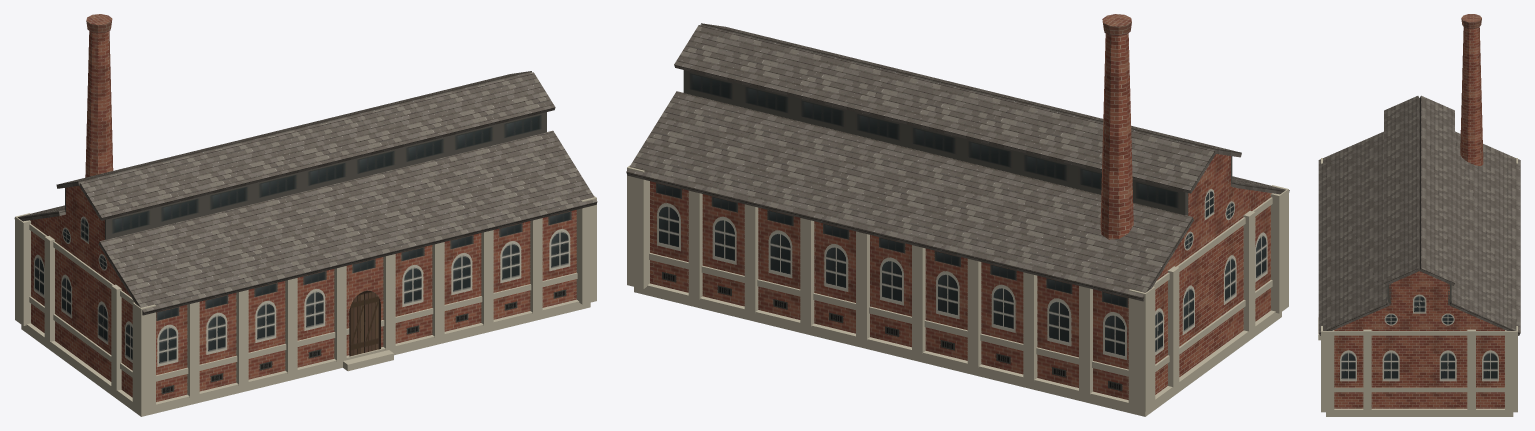
File: mill.glb
3 views of the same model, side by side, from view 1: azimuth 30°, elevation 25°; view 2: azimuth 150°, elevation 25°; view 3: azimuth 270°, elevation 25° (orthographic). The views are drawn at different scales.
Visible parts, largest first — view 1: toit_bas, toit_haut (×2), murs, pilastre (×11), fenetre (×17), pignon, socle, lanterneau, bandeau (×2), cheminee, pilastre_pignon (×2), porte (+1 smaller); view 2: toit_bas, murs, toit_haut (×2), pilastre (×11), fenetre (×17), pignon, socle, cheminee, lanterneau, bandeau (×2), pilastre_pignon (×2); view 3: toit_bas (×2), pignon, toit_haut (×2), murs, cheminee, fenetre (×5), pilastre (×2), bandeau (×2), socle, pilastre_pignon (×2), cheminee_couronne.
Part boxes in pixels (x1,y1,x2,y2): toit_bas: (98, 130, 597, 315); toit_haut (×2): (56, 71, 555, 220); murs: (156, 210, 576, 401); pilastre (×11): (15, 196, 596, 412); fenetre (×17): (111, 114, 570, 366); pignon: (30, 186, 132, 397); socle: (21, 299, 590, 416); lanterneau: (105, 112, 546, 239); bandeau (×2): (29, 224, 577, 381); cheminee: (85, 31, 113, 177); pilastre_pignon (×2): (44, 235, 121, 390); porte: (349, 290, 380, 356); toit_bas: (626, 91, 1193, 301); murs: (650, 181, 1265, 399); toit_haut (×2): (674, 23, 1241, 193); pilastre (×11): (627, 165, 1288, 411); fenetre (×17): (657, 72, 1179, 359); pignon: (1155, 154, 1271, 393); socle: (634, 283, 1281, 416); cheminee: (1100, 33, 1133, 239); lanterneau: (683, 70, 1188, 215); bandeau (×2): (649, 197, 1272, 376); pilastre_pignon (×2): (1168, 211, 1255, 386); toit_bas (×2): (1318, 131, 1520, 335); pignon: (1334, 271, 1504, 408); toit_haut (×2): (1384, 95, 1454, 285); murs: (1334, 329, 1504, 408); cheminee: (1460, 27, 1483, 165); fenetre (×5): (1340, 294, 1498, 381); pilastre (×2): (1321, 326, 1517, 412); bandeau (×2): (1334, 331, 1504, 392); socle: (1326, 408, 1513, 416); pilastre_pignon (×2): (1363, 329, 1475, 410); cheminee_couronne: (1461, 14, 1481, 28).
Bounding box in the file's own units: 4.34 × 2.88 × 2.14.
11 materials, 9 textured.
